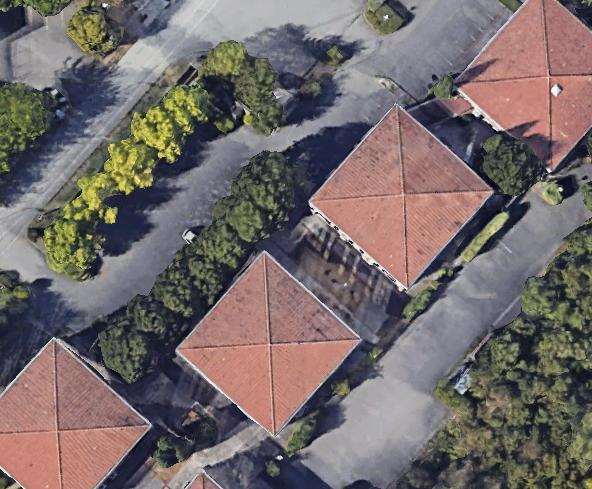maison: (304, 102, 494, 293), (174, 249, 362, 438), (448, 0, 592, 176), (0, 334, 153, 489)
